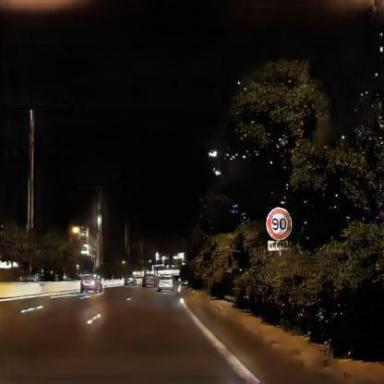Speed_limit_90: (266, 206, 293, 239)
